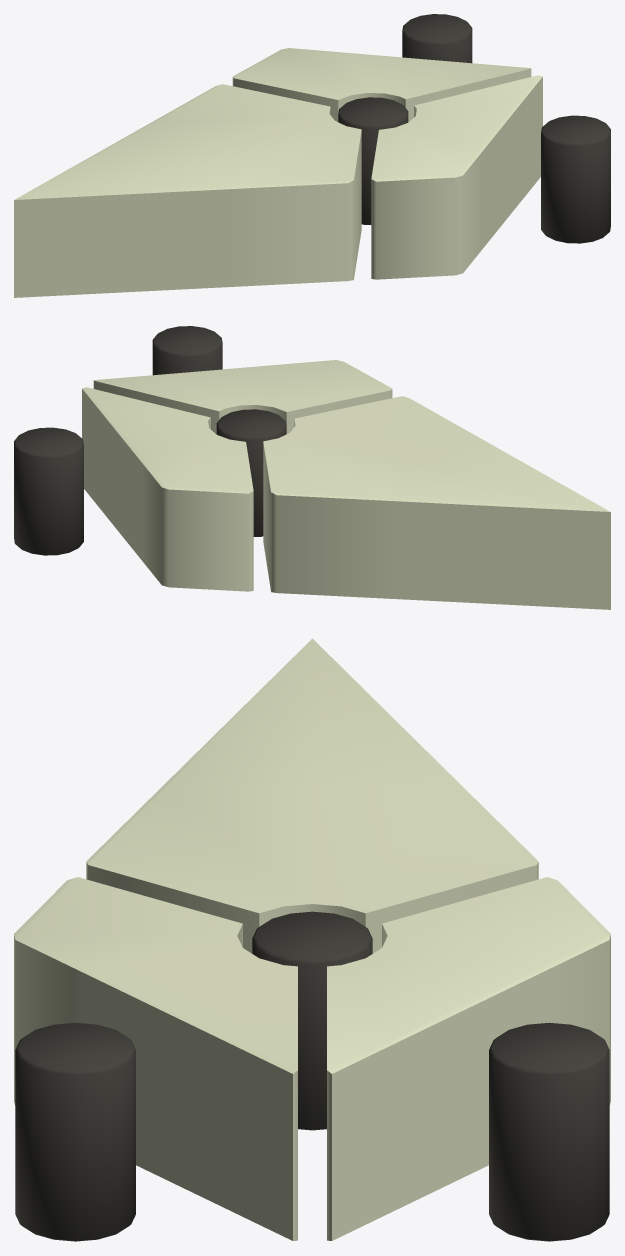
The model's file is character.fbx.
3 renders of one model, top to bottom at view 1: azimuth 30°, elevation 25°; view 2: azimuth 150°, elevation 25°; view 3: azimuth 270°, elevation 25°, orthographic. The views are drawn at different scales.
Parts seen in each view (by area): view 1: character, character_cyl_left, character_cyl, character_cyl_right; view 2: character, character_cyl_right, character_cyl, character_cyl_left; view 3: character, character_cyl_left, character_cyl_right, character_cyl.
Boxes of the visible parts, x1,y1,x2,y2 form: character: (14,48,542,297); character_cyl_left: (541,115,610,243); character_cyl: (338,97,408,224); character_cyl_right: (402,14,472,63); character: (82,360,610,609); character_cyl_right: (14,427,83,555); character_cyl: (216,409,286,536); character_cyl_left: (152,326,222,375); character: (14,638,610,1240); character_cyl_left: (15,1022,135,1241); character_cyl_right: (489,1022,609,1241); character_cyl: (252,911,372,1130).
Size of the model in its own units: 137 by 25 by 79.34.
